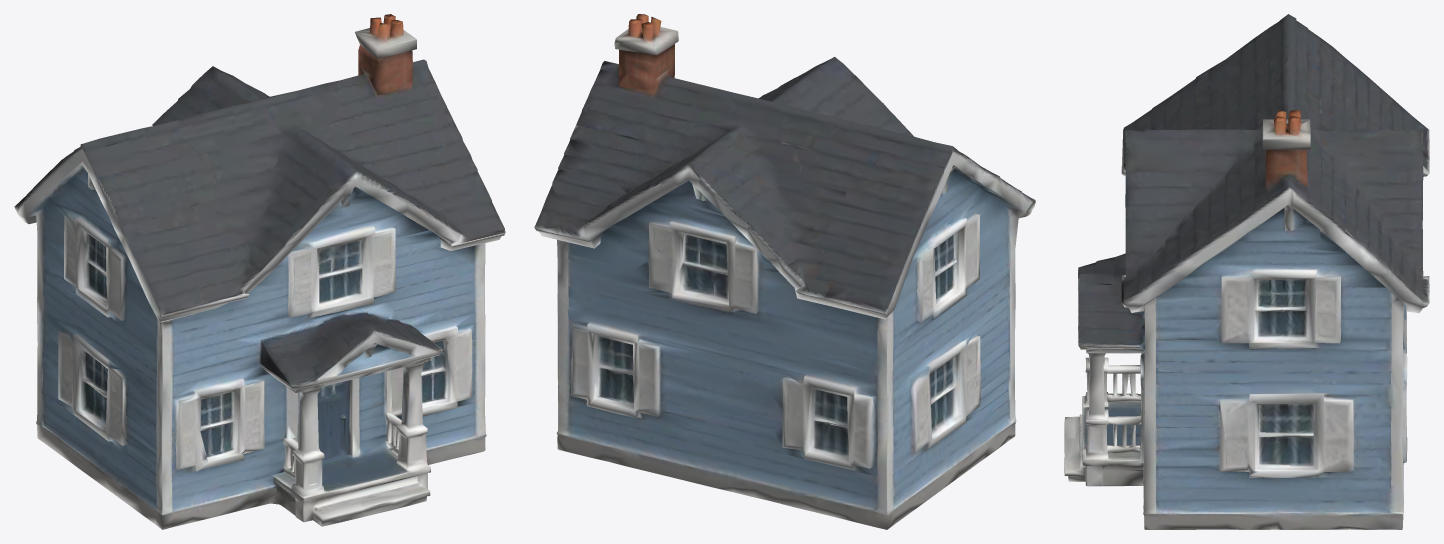
File: house-small.glb
The picture shows the model from 3 angles, left to right: view 1: azimuth 30°, elevation 25°; view 2: azimuth 150°, elevation 25°; view 3: azimuth 270°, elevation 25°; orthographic projection. The views are drawn at different scales.
Visible parts, largest first — view 1: house-small-node; view 2: house-small-node; view 3: house-small-node.
Part boxes in pixels (x1=…): house-small-node: x1=14, y1=14, x2=505, y2=529; house-small-node: x1=534, y1=14, x2=1035, y2=529; house-small-node: x1=1064, y1=14, x2=1429, y2=529.
Size of the model in its own units: 0.9281 by 1 by 0.8271.
Materials: 1 (1 with a texture image).
